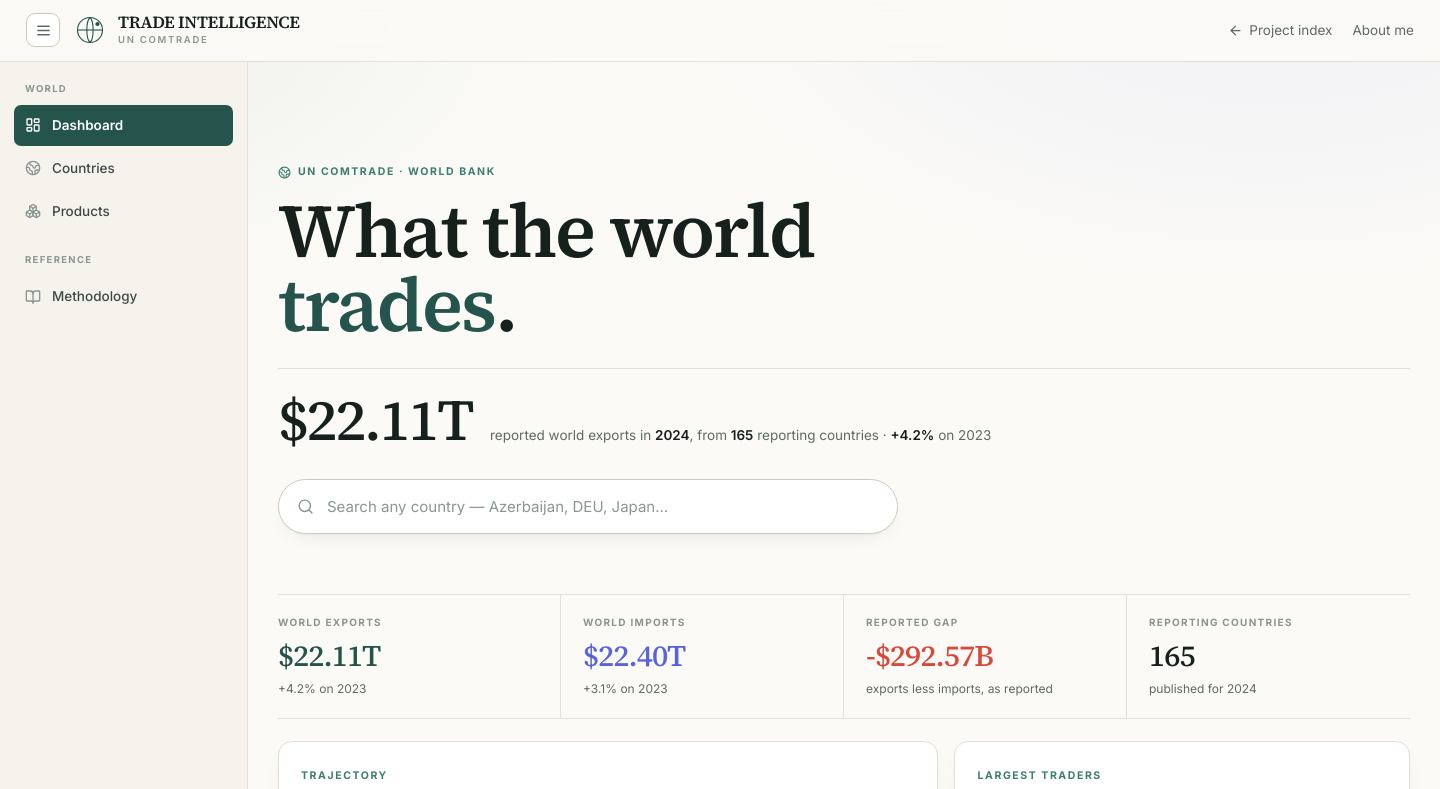
Scenario: world overview (landing) › finds a country by ISO alpha-3 code
The image size is (1440, 789).
Step 1. Type "DEU" into the dropdown named "search for a country" → (602, 507), box [325,494,879,519]
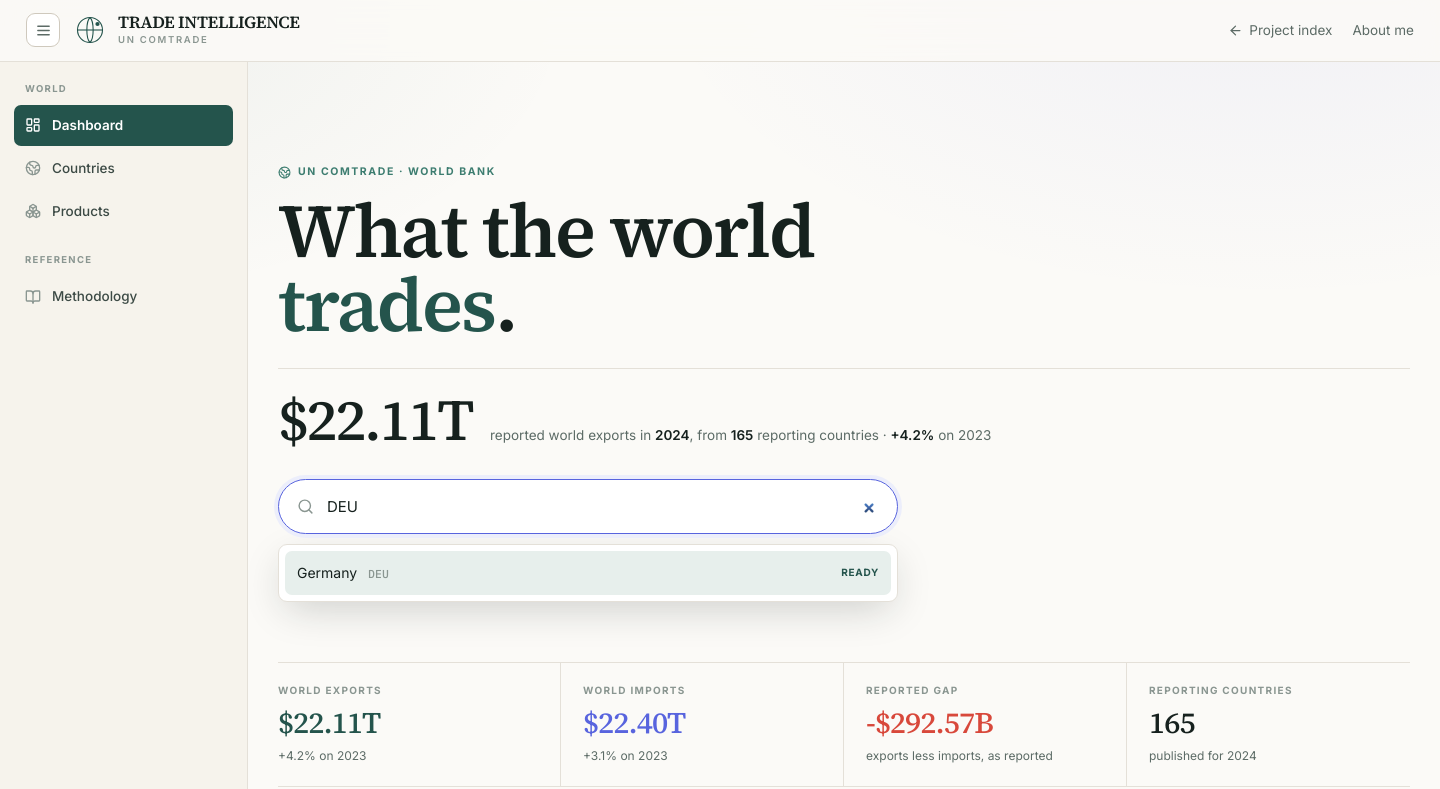
expect the text "Germany DEU" is shown: met, box [297,562,389,584]
